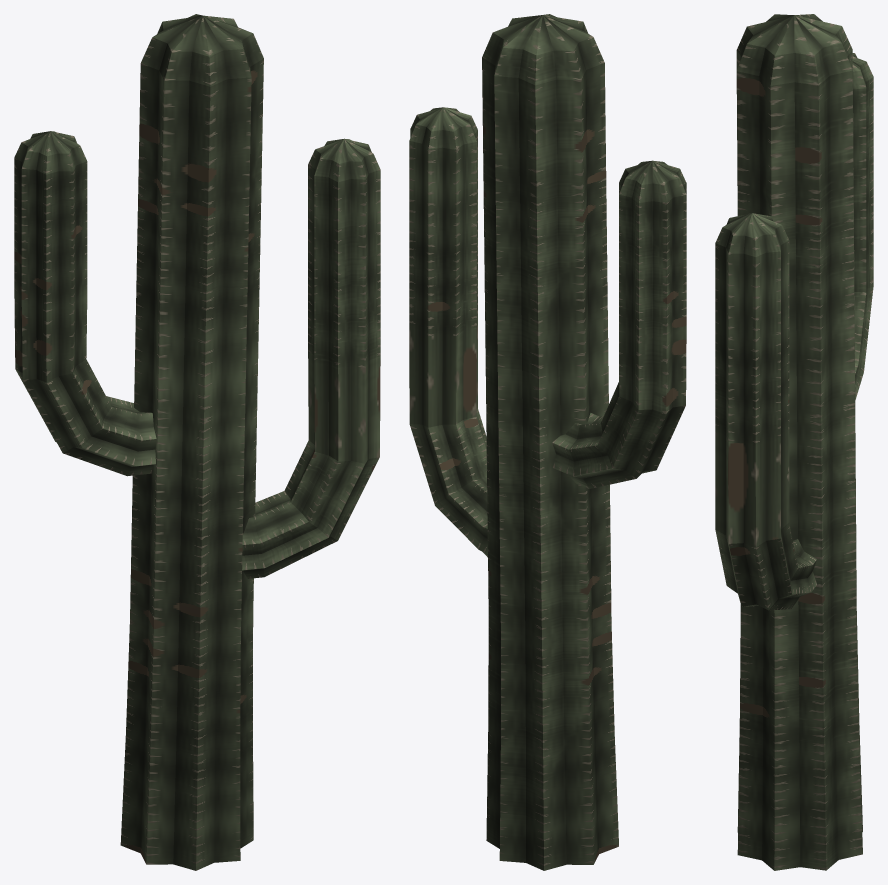
The model's file is plant_cactus_column_a_v5.glb.
3 views of the same model, side by side, from view 1: azimuth 30°, elevation 25°; view 2: azimuth 150°, elevation 25°; view 3: azimuth 270°, elevation 25° (orthographic).
Visible parts, largest first — view 1: plant_cactus_column_a_v5; view 2: plant_cactus_column_a_v5; view 3: plant_cactus_column_a_v5.
Boxes of the visible parts, left/top/right/bottom form: plant_cactus_column_a_v5: left=14, top=14, right=380, bottom=870; plant_cactus_column_a_v5: left=409, top=14, right=686, bottom=870; plant_cactus_column_a_v5: left=715, top=14, right=873, bottom=870.
Size of the model in its own units: 1.29 by 3.23 by 0.5545.
1 material, 1 textured.
